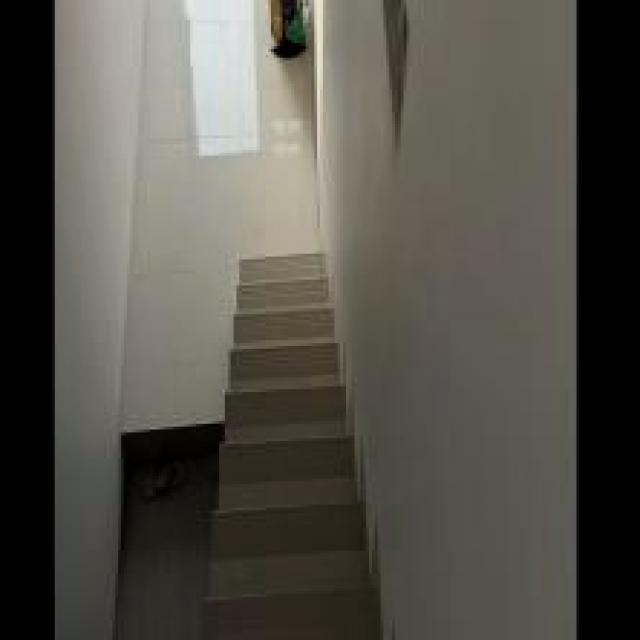downstair: (215, 243, 385, 640)
